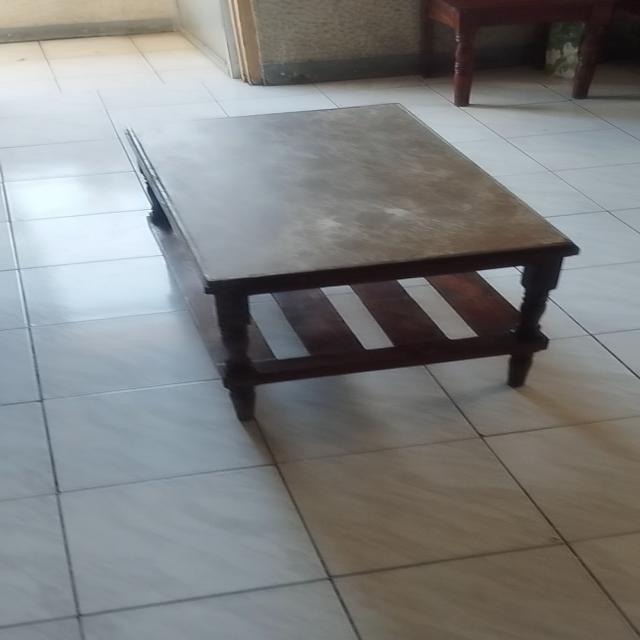table: (105, 98, 575, 423)
